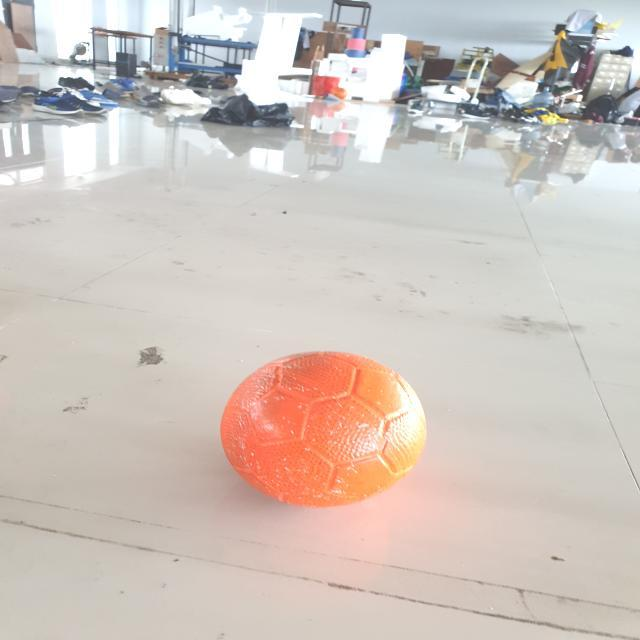bola: (214, 346, 436, 514)
